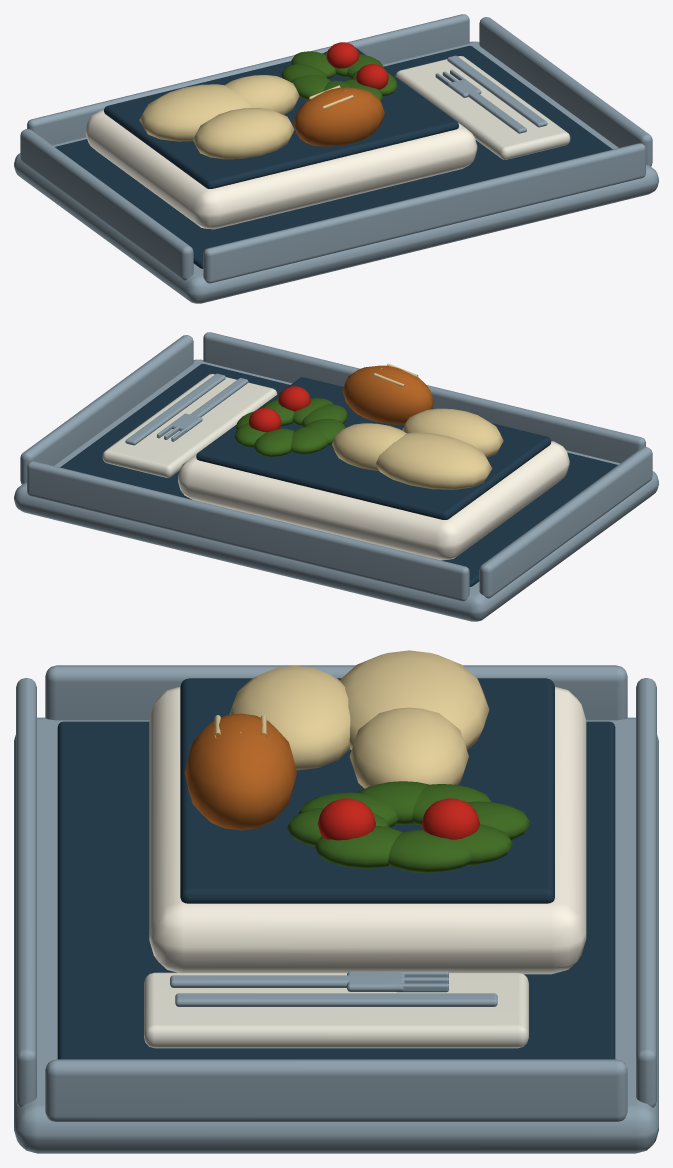
Rendered from meal.glb.
3 views of the same model, one above another, from view 1: azimuth 30°, elevation 25°; view 2: azimuth 150°, elevation 25°; view 3: azimuth 270°, elevation 25° (orthographic). The views are drawn at different scales.
Visible parts, largest first — view 1: Service meal; view 2: Service meal; view 3: Service meal.
Boxes of the visible parts, x1,y1,x2,y2 form: Service meal: (14, 14, 658, 303); Service meal: (14, 332, 658, 621); Service meal: (14, 650, 658, 1153).
Bounding box in the file's own units: 0.46 × 0.1125 × 0.31.
